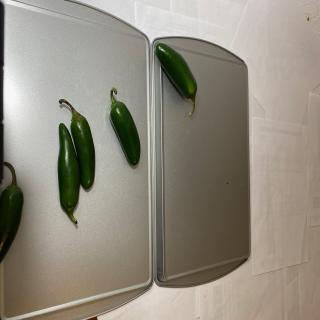Chilli: (154, 42, 197, 116)
Tomato: (58, 98, 96, 191), (0, 161, 24, 264), (109, 87, 140, 166), (57, 123, 80, 225)
